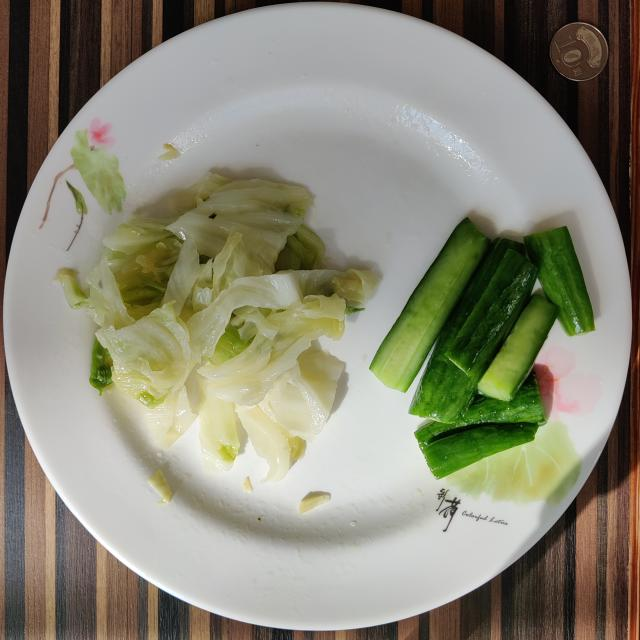coin: (550, 22, 609, 81)
cucumber: (58, 174, 379, 481), (370, 219, 595, 478)
